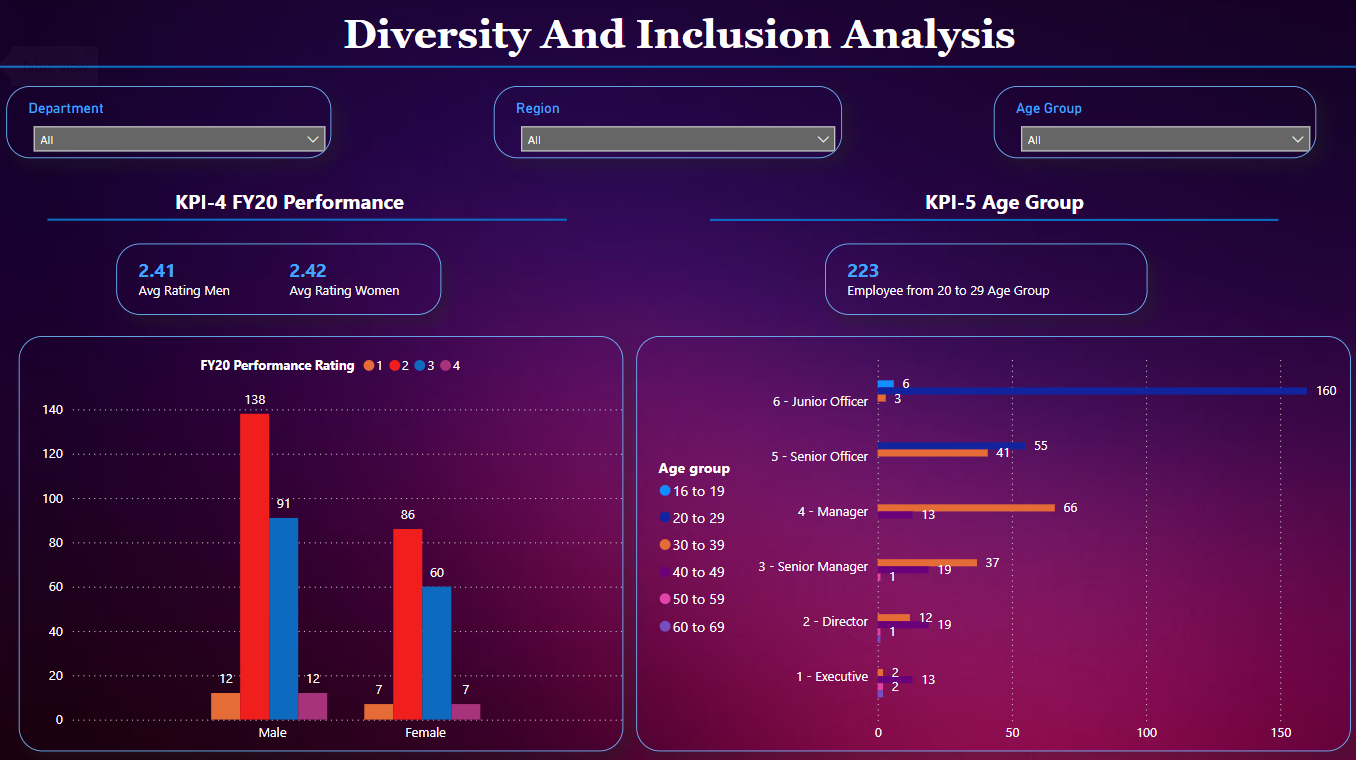

Layout of this report page (visuals, bound fields, positions):
{"tool":"powerbi","page":{"name":"Diversity and Inclusion Analysis2","canvas":[1280,720],"ordinal":1},"visuals":[{"type":"slicer","title":"Department","fields":{"Values":["Pharma Group AG.Department @01.07.2020"]},"box":[31.4,73.3,302.3,67.4],"z":0},{"type":"slicer","title":"Region","fields":{"Values":["Pharma Group AG.Nationality 1"]},"box":[493,73.3,323.3,67.4],"z":1000},{"type":"slicer","title":"Age Group","fields":{"Values":["Pharma Group AG.Age group"]},"box":[939.5,73.3,300,67.4],"z":2000},{"type":"textbox","box":[0,9.3,1280.2,52.3],"z":3000},{"type":"clusteredColumnChart","fields":{"Category":["Pharma Group AG.Gender"],"Y":["CountNonNull(Pharma Group AG.Employee ID)"],"Series":["Pharma Group AG.FY20 Performance Rating"]},"box":[31.4,320.9,562.8,386],"z":4000},{"type":"multiRowCard","fields":{"Values":["Pharma Group AG.#avg performance men","Pharma Group AG.#avg performance women"]},"box":[165.1,234.9,302.3,66.3],"z":5000},{"type":"textbox","box":[141.9,170.9,323.3,46.5],"z":6000},{"type":"textbox","box":[779.1,170.9,300,46.5],"z":7000},{"type":"clusteredBarChart","fields":{"Category":["Pharma Group AG.Job Level after FY21 promotions"],"Y":["CountNonNull(Pharma Group AG.Employee ID)"],"Series":["Pharma Group AG.Age group"]},"box":[639.5,320.9,600,386],"z":8000},{"type":"multiRowCard","fields":{"Values":["CountNonNull(Pharma Group AG.Employee ID)"]},"box":[789.5,234.9,300,66.3],"z":9000},{"type":"shape","box":[123.3,194.2,384.9,37.2],"z":10000},{"type":"shape","box":[744.2,194.2,390.7,37.2],"z":11000},{"type":"shape","box":[0,37.2,1280.2,36],"z":12000}]}

Visuals, with their boxes in screenshot pixels (x1, y1, x2, y2), scaled from the page's 1280x720 canvas onto the 1356x760 screenshot:
"Department" slicer: crop(33, 77, 354, 149)
"Region" slicer: crop(522, 77, 865, 149)
"Age Group" slicer: crop(995, 77, 1313, 149)
textbox: crop(0, 10, 1355, 65)
clusteredColumnChart - Pharma Group AG.Gender x CountNonNull(Pharma Group AG.Employee ID): crop(33, 339, 629, 746)
multiRowCard - Pharma Group AG.#avg performance men x Pharma Group AG.#avg performance women: crop(175, 248, 495, 318)
textbox: crop(150, 180, 493, 229)
textbox: crop(825, 180, 1143, 229)
clusteredBarChart - Pharma Group AG.Job Level after FY21 promotions x CountNonNull(Pharma Group AG.Employee ID): crop(677, 339, 1313, 746)
multiRowCard - CountNonNull(Pharma Group AG.Employee ID): crop(836, 248, 1154, 318)
shape: crop(131, 205, 538, 244)
shape: crop(788, 205, 1202, 244)
shape: crop(0, 39, 1355, 77)
